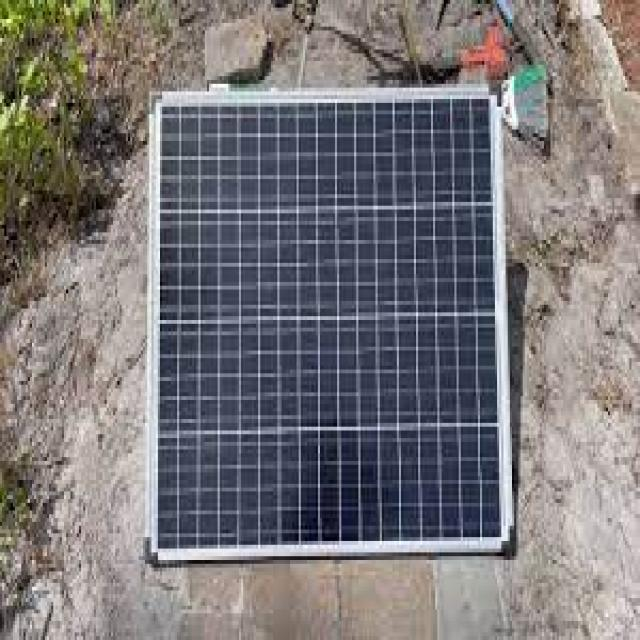no faulty: (166, 103, 497, 545)
